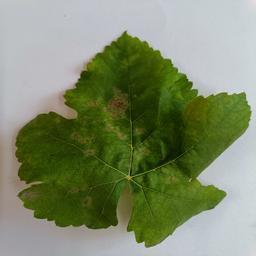Powdery-Mildew: (88, 87, 132, 119), (117, 148, 147, 177), (65, 131, 96, 159), (149, 163, 178, 190), (109, 125, 145, 143), (192, 186, 212, 204), (23, 190, 40, 208), (81, 197, 92, 208)
